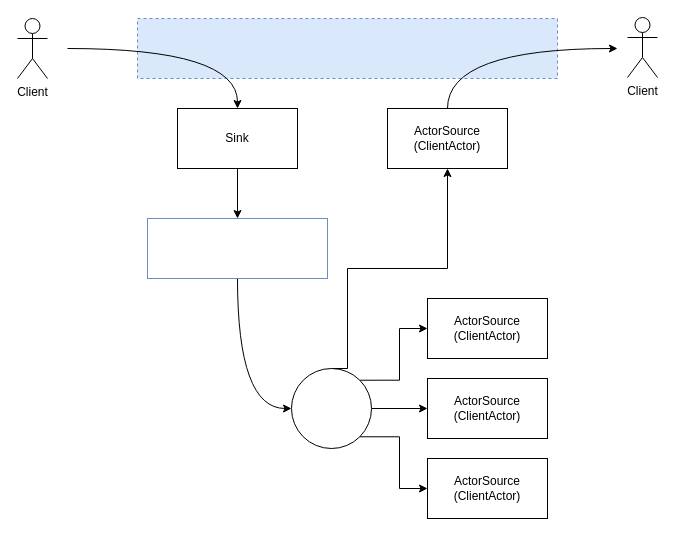
Some shapes in this 675 by 536 pixel diagram are drawn without their labels. Each missing label, with the centre of its shape:
"Flow" belongs at [347,48].
"Group Actor (ES)" belongs at [331,408].
"GroupService" belongs at [237,248].
